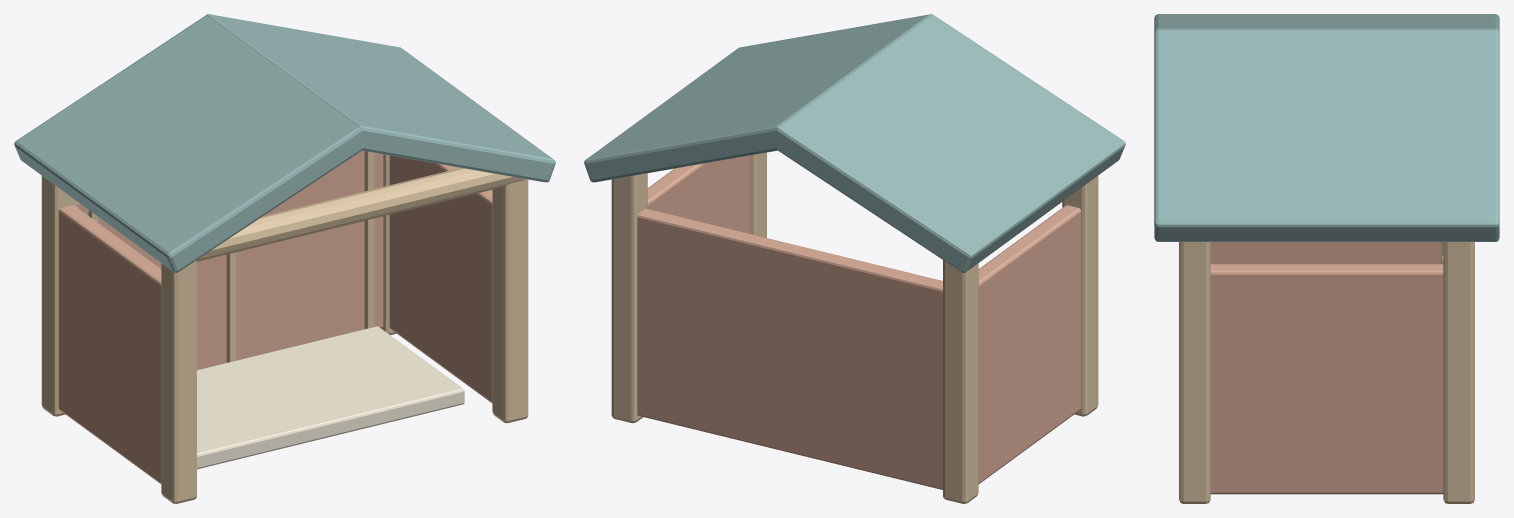
Rendered from shelter-soft-toy.glb.
3 renders of one model, left to right at view 1: azimuth 30°, elevation 25°; view 2: azimuth 150°, elevation 25°; view 3: azimuth 270°, elevation 25°, orthographic. The views are drawn at different scales.
Visible parts, largest first — view 1: Roof.002, Straw bed.001, Side wall.002, Roof.003, Back wall.001, Side wall.003, Post.006, Post.004, Front lintel.001, Post.005, Wall batten.005, Wall batten.004 (+1 smaller); view 2: Back wall.001, Roof.002, Side wall.002, Roof.003, Post.005, Post.007, Side wall.003, Post.004, Post.006; view 3: Roof.003, Side wall.003, Post.006, Post.007, Roof.002, Side wall.002.
Part boxes in pixels (bbox=[...]): Roof.002: bbox=[14, 14, 368, 272]; Straw bed.001: bbox=[197, 326, 464, 469]; Side wall.002: bbox=[58, 205, 161, 483]; Roof.003: bbox=[206, 14, 555, 182]; Back wall.001: bbox=[77, 150, 383, 369]; Side wall.003: bbox=[389, 155, 492, 403]; Post.006: bbox=[492, 179, 528, 423]; Post.004: bbox=[161, 260, 196, 503]; Front lintel.001: bbox=[196, 168, 524, 261]; Post.005: bbox=[41, 176, 77, 416]; Wall batten.005: bbox=[364, 151, 374, 328]; Wall batten.004: bbox=[226, 252, 236, 362]; Back wall.001: bbox=[637, 208, 942, 489]; Roof.002: bbox=[771, 14, 1125, 272]; Side wall.002: bbox=[978, 205, 1081, 483]; Roof.003: bbox=[584, 14, 933, 182]; Post.005: bbox=[943, 260, 978, 503]; Post.007: bbox=[611, 173, 647, 423]; Side wall.003: bbox=[647, 155, 750, 233]; Post.004: bbox=[1062, 176, 1098, 416]; Post.006: bbox=[750, 152, 766, 237]; Roof.003: bbox=[1154, 28, 1499, 241]; Side wall.003: bbox=[1210, 264, 1443, 494]; Post.006: bbox=[1179, 242, 1210, 503]; Post.007: bbox=[1443, 242, 1474, 503]; Roof.002: bbox=[1154, 14, 1499, 32]; Side wall.002: bbox=[1210, 242, 1441, 264].
Size of the model in its own units: 2.81 by 2.38 by 1.96.
